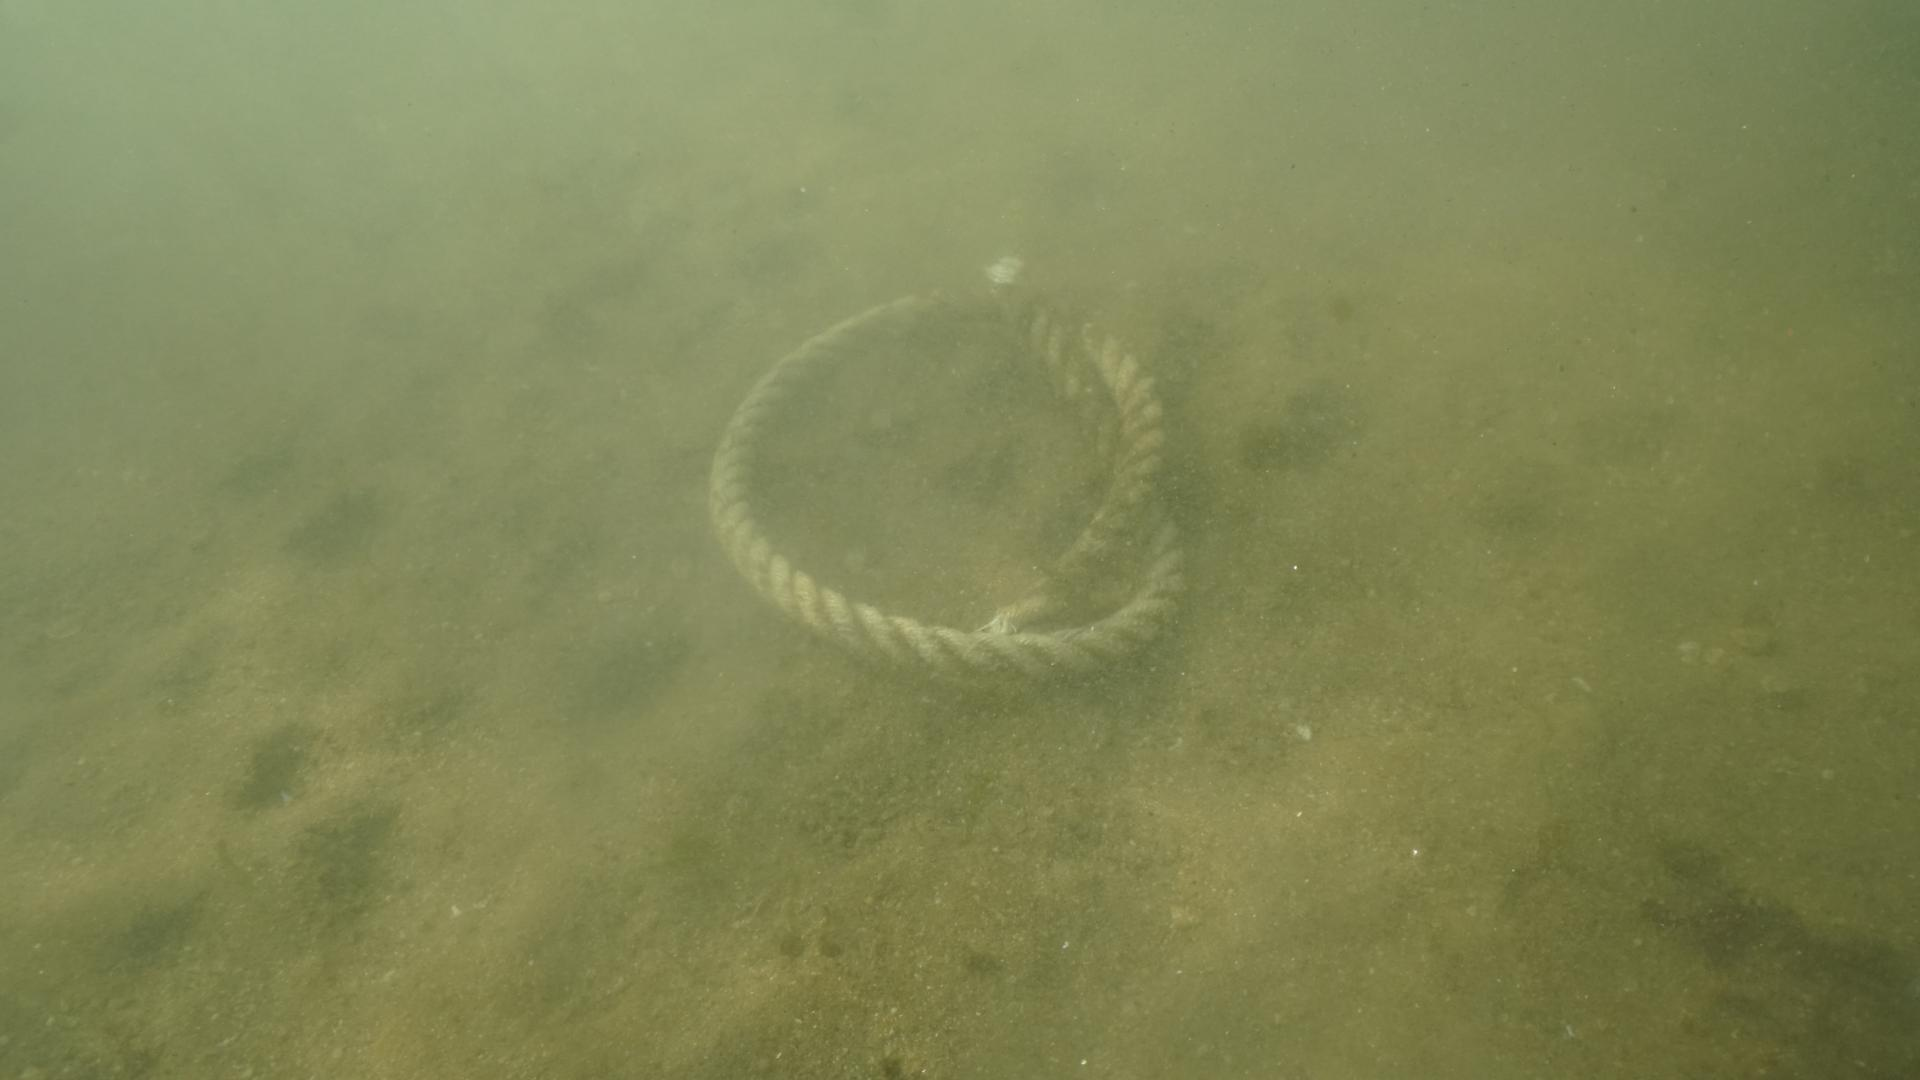bundle of ropes: (698, 266, 1193, 691)
